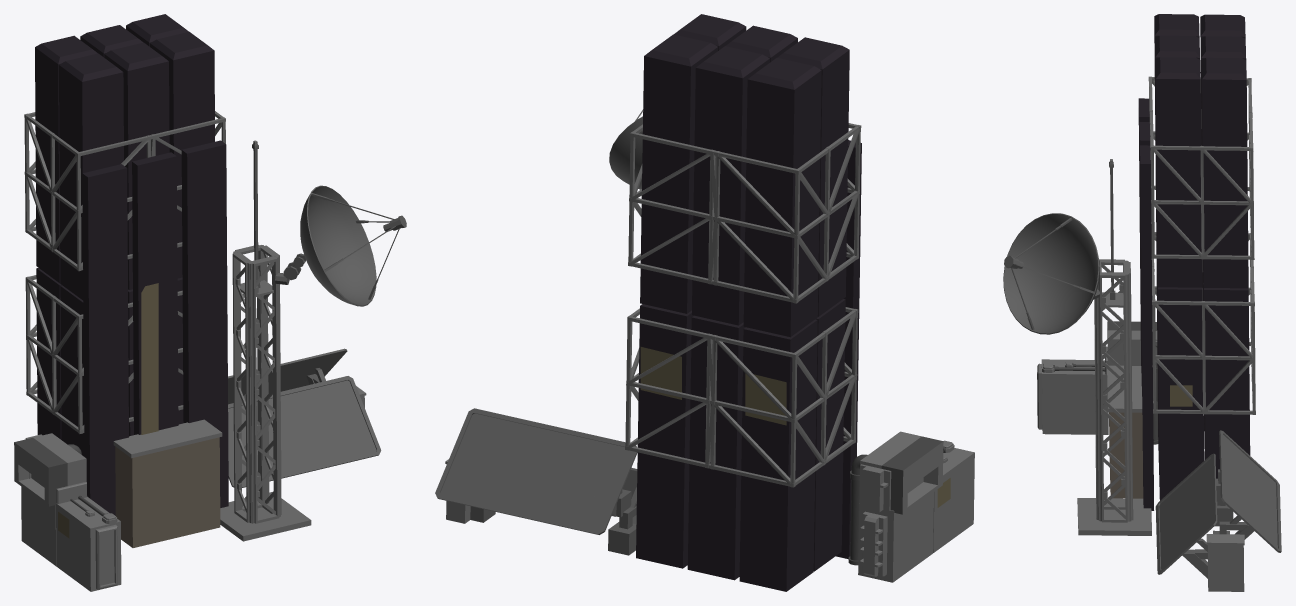
3 renders of one model, left to right at view 1: azimuth 30°, elevation 25°; view 2: azimuth 150°, elevation 25°; view 3: azimuth 270°, elevation 25°, orthographic. The views are drawn at different scales.
Visible parts, largest first — view 1: GT_GA_Ground_Greebles_4.001; view 2: GT_GA_Ground_Greebles_4.001; view 3: GT_GA_Ground_Greebles_4.001.
Part boxes in pixels (bbox=[...]): GT_GA_Ground_Greebles_4.001: bbox=[14, 14, 406, 591]; GT_GA_Ground_Greebles_4.001: bbox=[435, 14, 974, 591]; GT_GA_Ground_Greebles_4.001: bbox=[1003, 14, 1281, 591].
Size of the model in its own units: 614 by 735 by 424.
